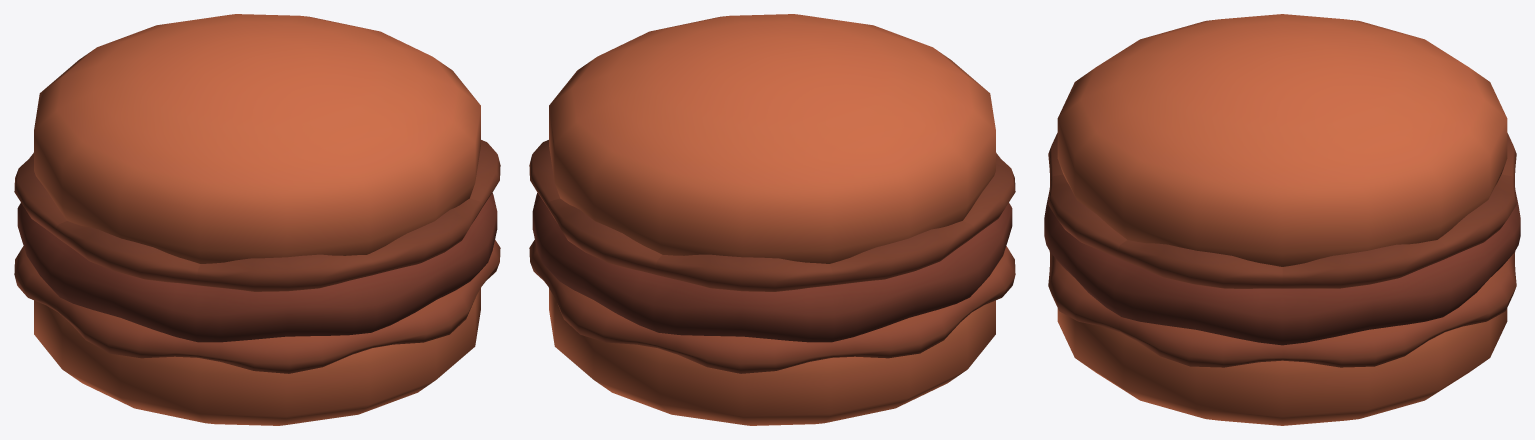
Rendered from Macaron_V1_03.fbx.
3 views of the same model, side by side, from view 1: azimuth 30°, elevation 25°; view 2: azimuth 150°, elevation 25°; view 3: azimuth 270°, elevation 25° (orthographic).
Parts seen in each view (by area): view 1: Macaron_V1_03; view 2: Macaron_V1_03; view 3: Macaron_V1_03.
Part boxes in pixels (<box>): Macaron_V1_03: <box>14,14,500,425</box>; Macaron_V1_03: <box>529,14,1015,425</box>; Macaron_V1_03: <box>1044,14,1520,425</box>.
Bounding box in the file's own units: 27.03 × 19.94 × 27.03.
